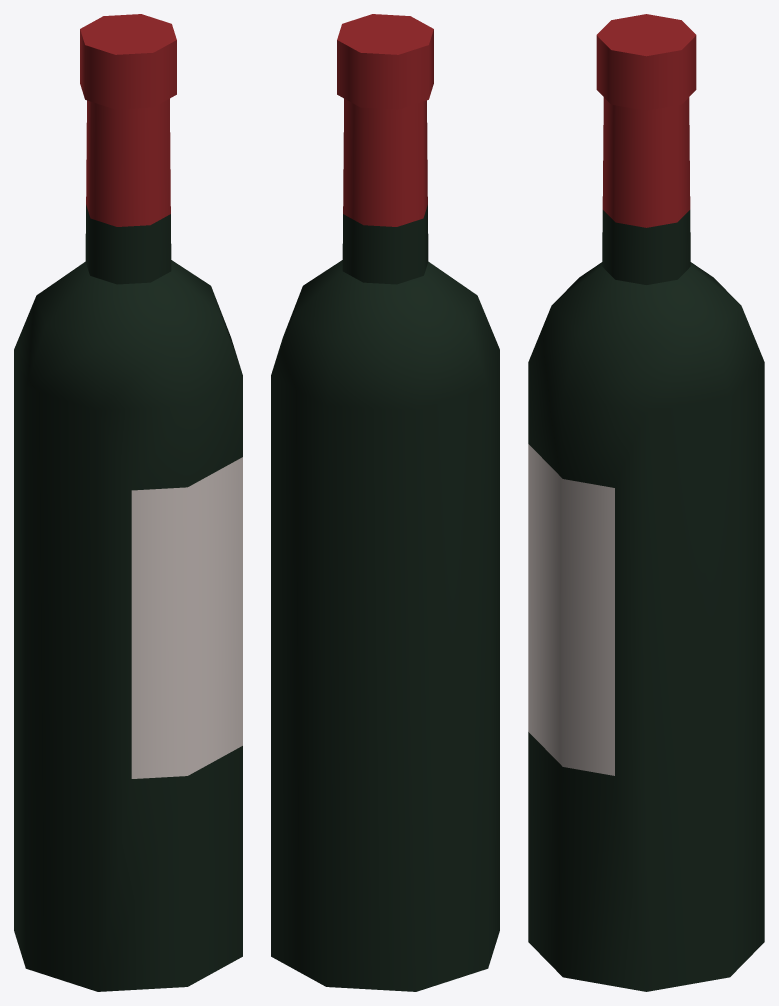
The model's file is prop_063.fbx.
The picture shows the model from 3 angles, left to right: view 1: azimuth 30°, elevation 25°; view 2: azimuth 150°, elevation 25°; view 3: azimuth 270°, elevation 25°; orthographic projection.
Parts seen in each view (by area): view 1: prop_063; view 2: prop_063; view 3: prop_063.
Part boxes in pixels (left/top/right/bottom): prop_063: left=14, top=14, right=242, bottom=991; prop_063: left=271, top=14, right=499, bottom=991; prop_063: left=528, top=14, right=764, bottom=991.
Bounding box in the file's own units: 10.6 × 10.6 × 44.85.
